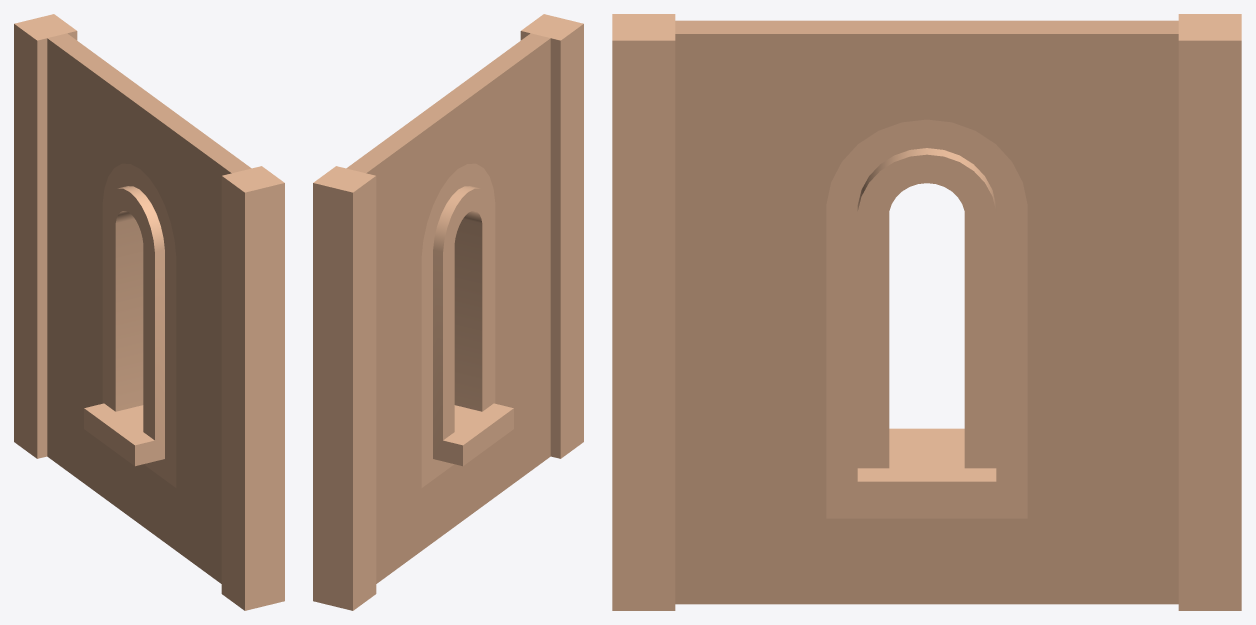
Rendered from wallWoodWindowRound.glb.
The picture shows the model from 3 angles, left to right: view 1: azimuth 30°, elevation 25°; view 2: azimuth 150°, elevation 25°; view 3: azimuth 270°, elevation 25°; orthographic projection. The views are drawn at different scales.
Parts seen in each view (by area): view 1: wallWoodWindowRound; view 2: wallWoodWindowRound; view 3: wallWoodWindowRound.
Part boxes in pixels (bbox=[...]): wallWoodWindowRound: bbox=[14, 14, 284, 610]; wallWoodWindowRound: bbox=[313, 14, 583, 610]; wallWoodWindowRound: bbox=[612, 14, 1241, 610].
Bounding box in the file's own units: 0.2 × 1 × 1.
